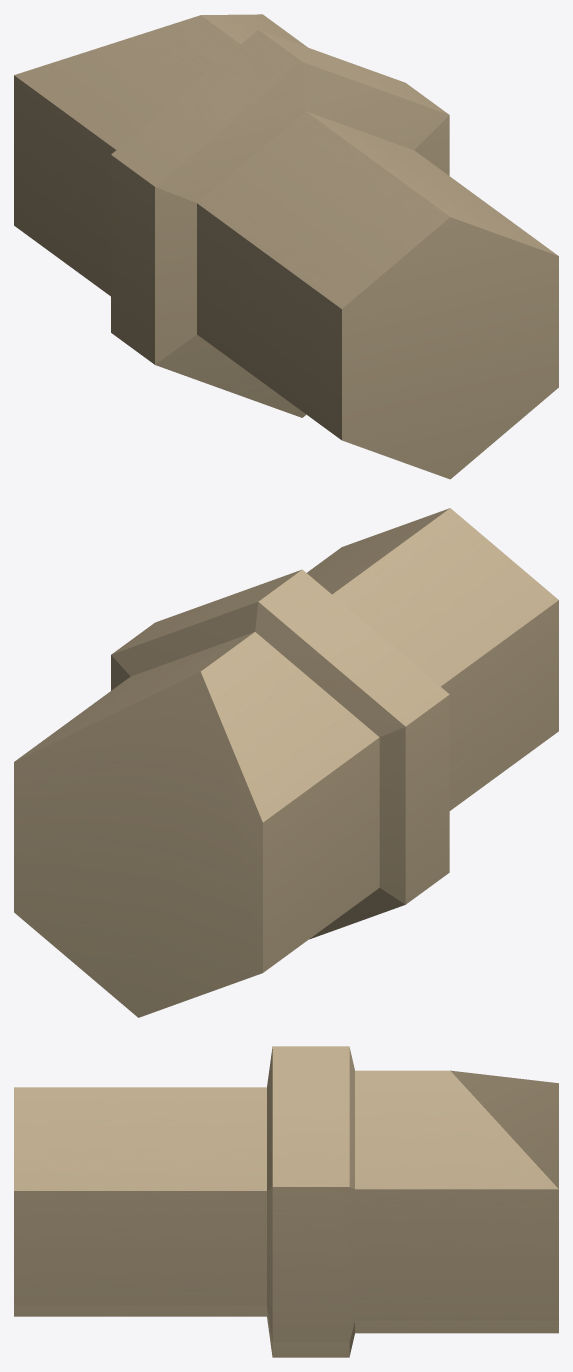
Rendered from Rock+8.fbx.
The picture shows the model from 3 angles, top to bottom: view 1: azimuth 30°, elevation 25°; view 2: azimuth 150°, elevation 25°; view 3: azimuth 270°, elevation 25°; orthographic projection. The views are drawn at different scales.
Visible parts, largest first — view 1: Rock 8; view 2: Rock 8; view 3: Rock 8.
Part boxes in pixels (x1,y1,x2,y2): Rock 8: [14, 14, 558, 479]; Rock 8: [14, 508, 558, 1017]; Rock 8: [14, 1046, 558, 1357].
Size of the model in its own units: 156 by 180 by 285.
